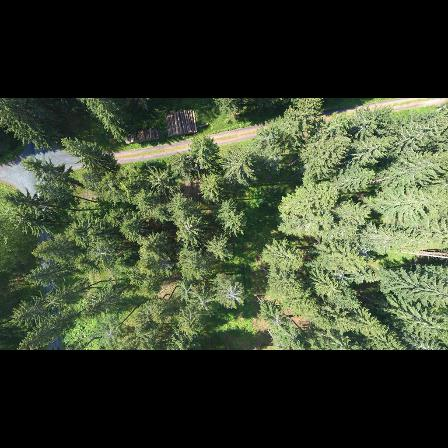Sick: (220, 280, 245, 309), (329, 265, 353, 287)
